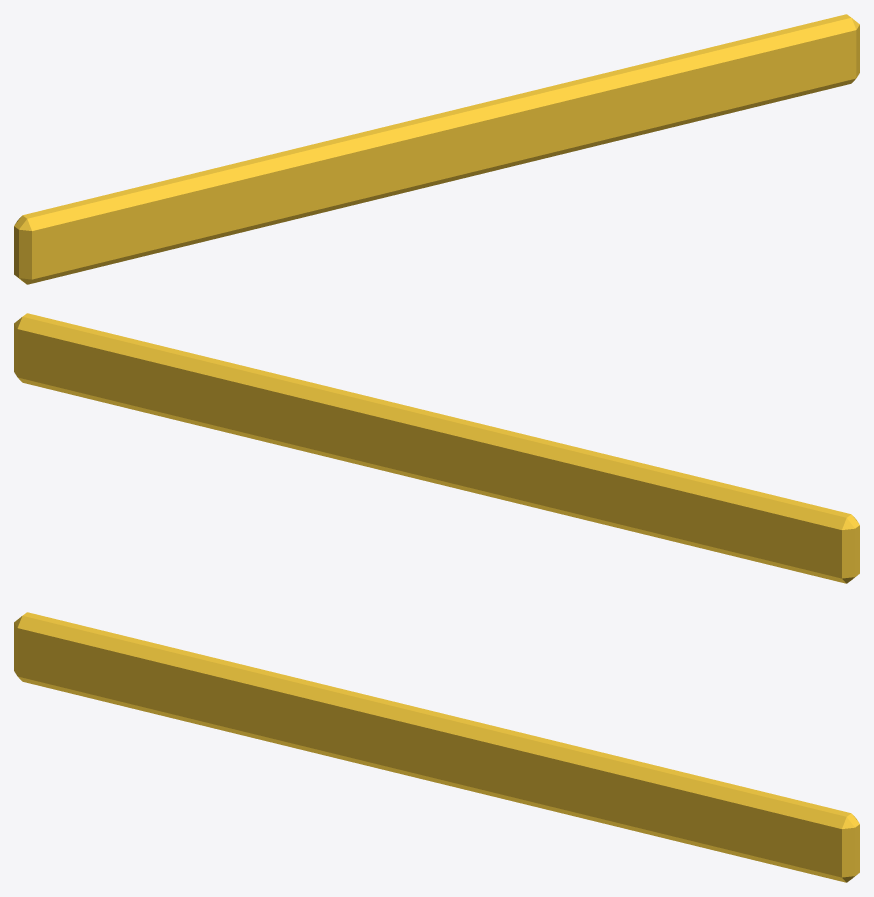
Rendered from led_strip_warn_lens.glb.
3 renders of one model, top to bottom at view 1: azimuth 30°, elevation 25°; view 2: azimuth 150°, elevation 25°; view 3: azimuth 330°, elevation 25°, orthographic.
Parts seen in each view (by area): view 1: LedStripLens; view 2: LedStripLens; view 3: LedStripLens.
Boxes of the visible parts, box(x1,y1,x2,y2) form: LedStripLens: box(14, 14, 859, 284); LedStripLens: box(14, 313, 859, 583); LedStripLens: box(14, 612, 859, 882).
Size of the model in its own units: 0.04 by 0.003 by 0.0012.
